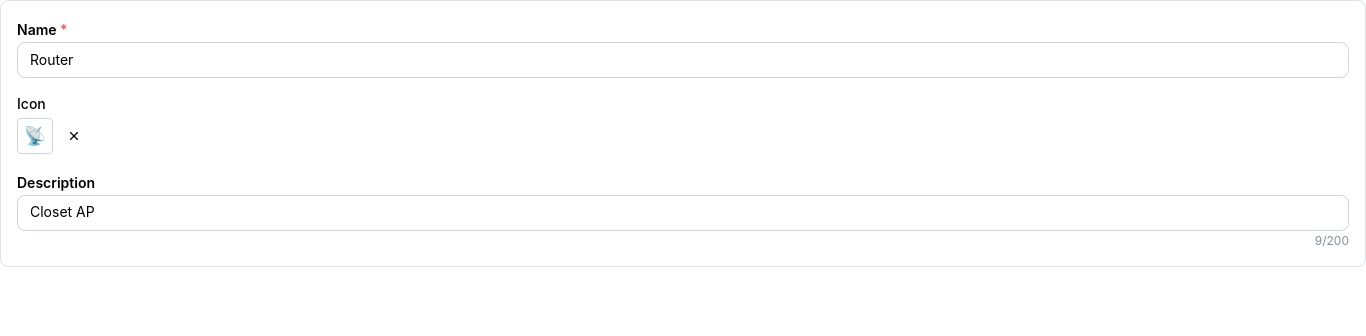
Test: DeviceProfileCard › shows the dirty-state banner only after edits and reset restores server values
Expected: the text "Unsaved changes" is not shown
Replace the text in the field labelled "Name *" with "Garage router" at (683, 60), box 17,42 -> 1349,78
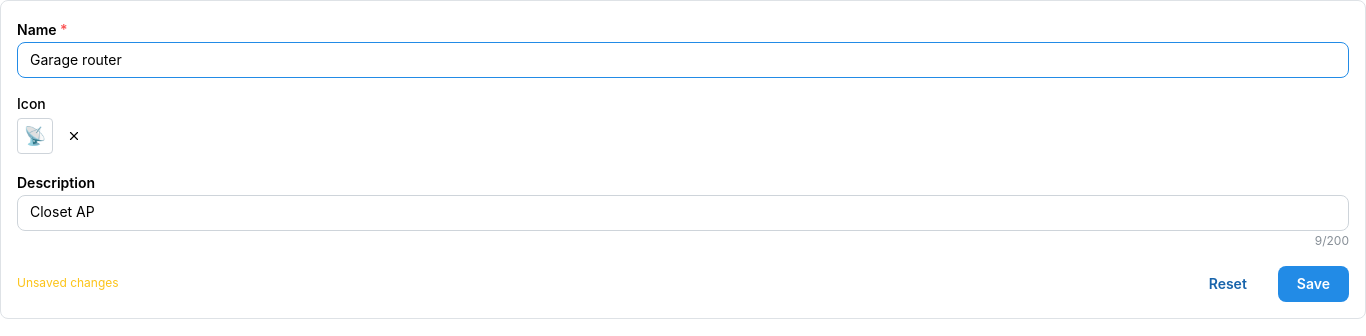
Expected: the text "Unsaved changes" is shown, 17,275 -> 119,292
Click the button "Reset" at (1228, 284), box 1190,266 -> 1266,302
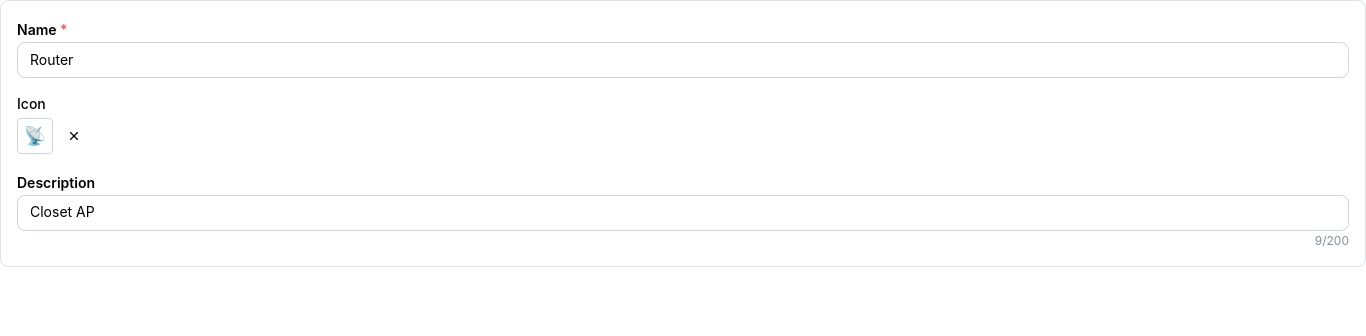
Expected: the text box labelled "Description" holds "Closet AP", 17,195 -> 1349,231
Expected: the text "Unsaved changes" is gone
Expected: the field labelled "Name *" holds "Router", 17,42 -> 1349,78
